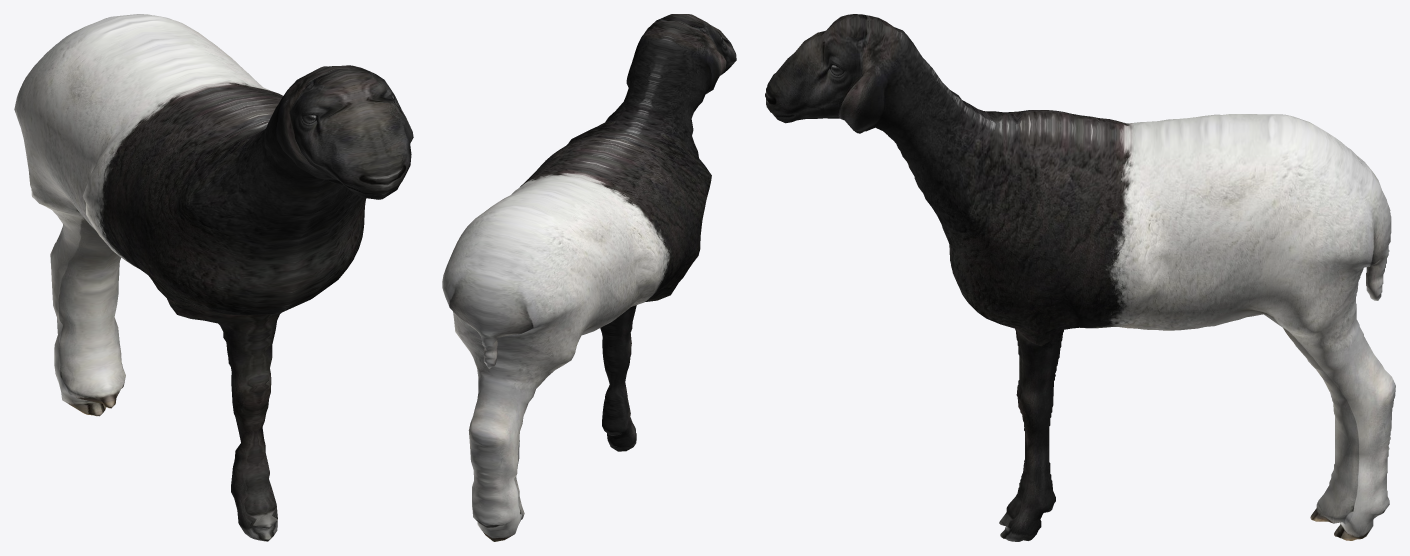
File: mouton.glb
The picture shows the model from 3 angles, left to right: view 1: azimuth 30°, elevation 25°; view 2: azimuth 150°, elevation 25°; view 3: azimuth 270°, elevation 25°; orthographic projection. The views are drawn at different scales.
Visible parts, largest first — view 1: mouton; view 2: mouton; view 3: mouton.
Boxes of the visible parts, box(x1,y1,x2,y2) form: mouton: box(14, 14, 413, 541); mouton: box(442, 14, 736, 541); mouton: box(765, 14, 1395, 541).
Size of the model in its own units: 0.3722 by 0.85 by 0.9351.
Materials: 1 (1 with a texture image).
